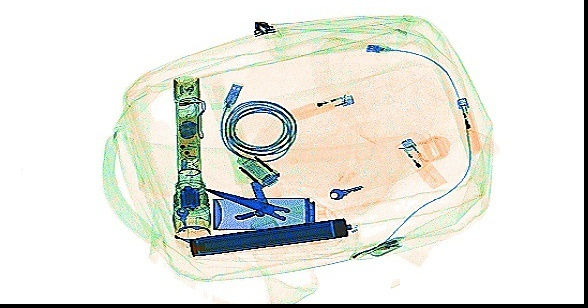lighter: (393, 137, 448, 190), (279, 87, 353, 123), (457, 93, 480, 157)
pressure: (205, 195, 324, 229)
scissors: (197, 185, 335, 247)
